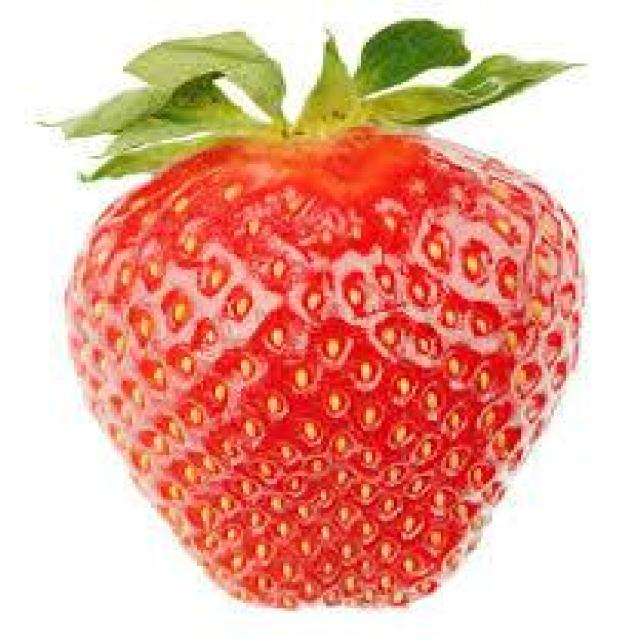organic: (25, 16, 585, 611)
